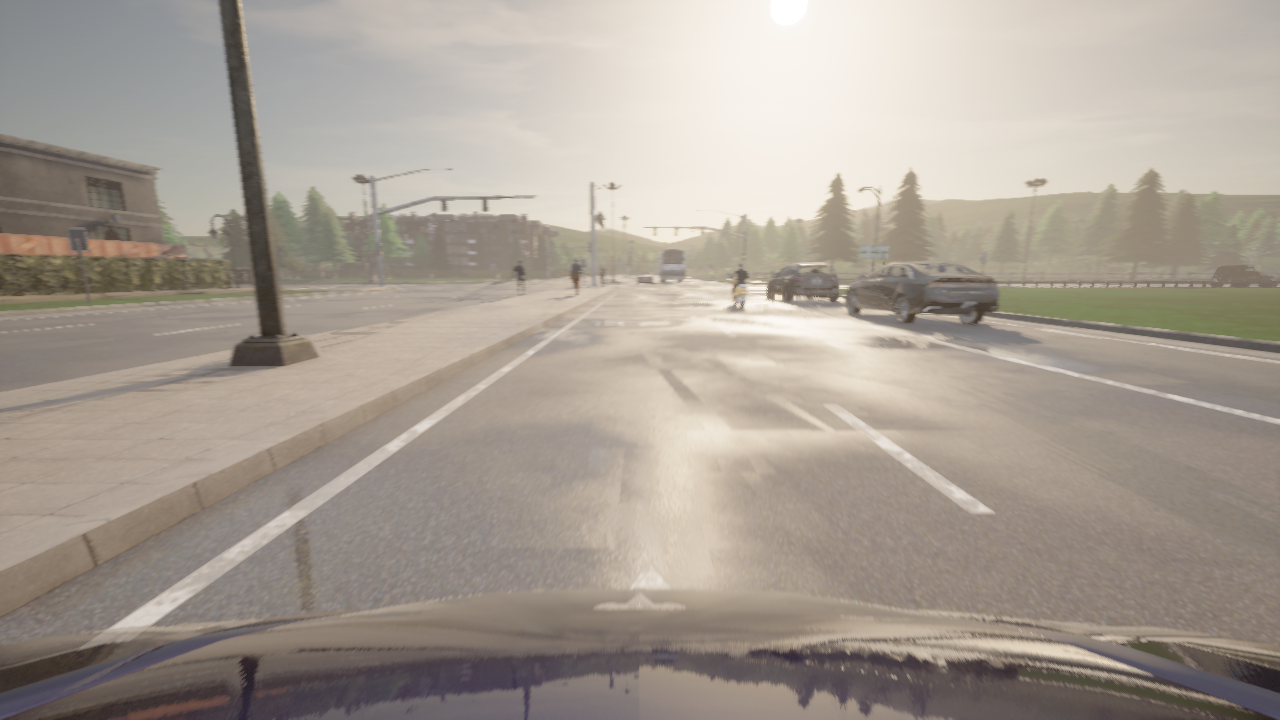cyclist: (0, 588, 1279, 719), (845, 261, 998, 323), (767, 262, 838, 301), (1211, 265, 1274, 286), (655, 249, 684, 282), (728, 272, 750, 307), (635, 271, 654, 285)
pedestrian: (513, 259, 526, 296), (571, 258, 583, 296), (226, 260, 233, 280), (599, 263, 604, 286)
